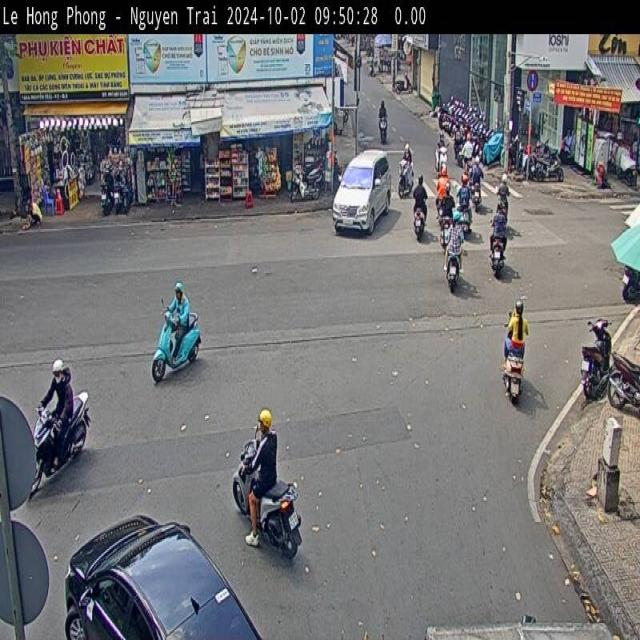car: (60, 509, 256, 640), (334, 152, 393, 235)
motorcycle: (27, 392, 90, 488), (232, 444, 291, 540), (150, 313, 202, 378), (580, 314, 612, 403), (498, 335, 527, 405), (610, 344, 640, 411), (293, 159, 324, 205), (616, 143, 639, 187), (444, 245, 462, 295), (622, 260, 640, 304), (489, 233, 504, 281), (482, 135, 504, 165), (112, 166, 124, 220), (410, 202, 426, 240), (398, 160, 413, 198), (102, 162, 113, 212), (394, 75, 418, 97), (455, 100, 470, 133), (440, 90, 455, 122), (477, 128, 492, 159), (538, 156, 557, 180), (530, 150, 552, 170), (435, 145, 448, 178), (459, 204, 472, 233), (496, 191, 509, 219), (449, 98, 462, 126), (379, 114, 391, 144), (467, 112, 477, 146), (521, 146, 534, 172), (476, 116, 483, 150), (463, 152, 472, 178), (366, 62, 378, 77)
person: (49, 346, 72, 448), (258, 409, 279, 511), (170, 273, 189, 349), (510, 302, 529, 355), (449, 209, 465, 267), (26, 196, 44, 232), (500, 159, 513, 207), (375, 94, 391, 124), (459, 169, 470, 210), (401, 133, 413, 169), (445, 182, 454, 228), (495, 198, 504, 243), (436, 129, 448, 156), (416, 171, 424, 210), (565, 121, 572, 159), (464, 134, 474, 159), (367, 51, 375, 67)
